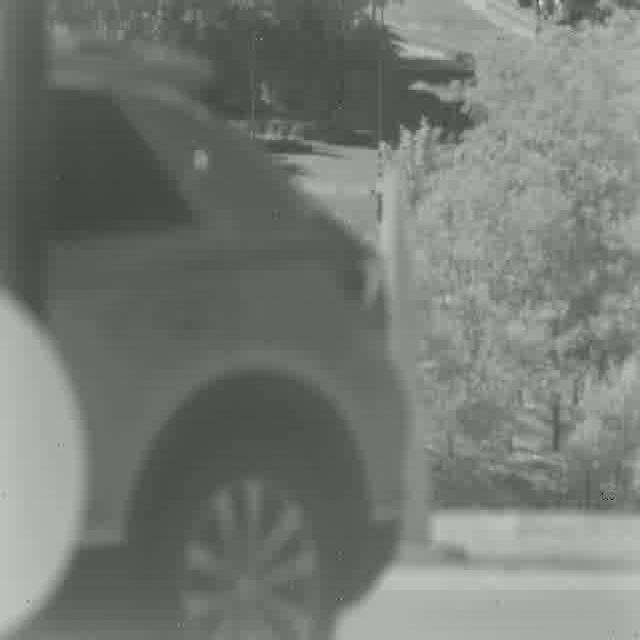Car: (41, 50, 392, 640)
